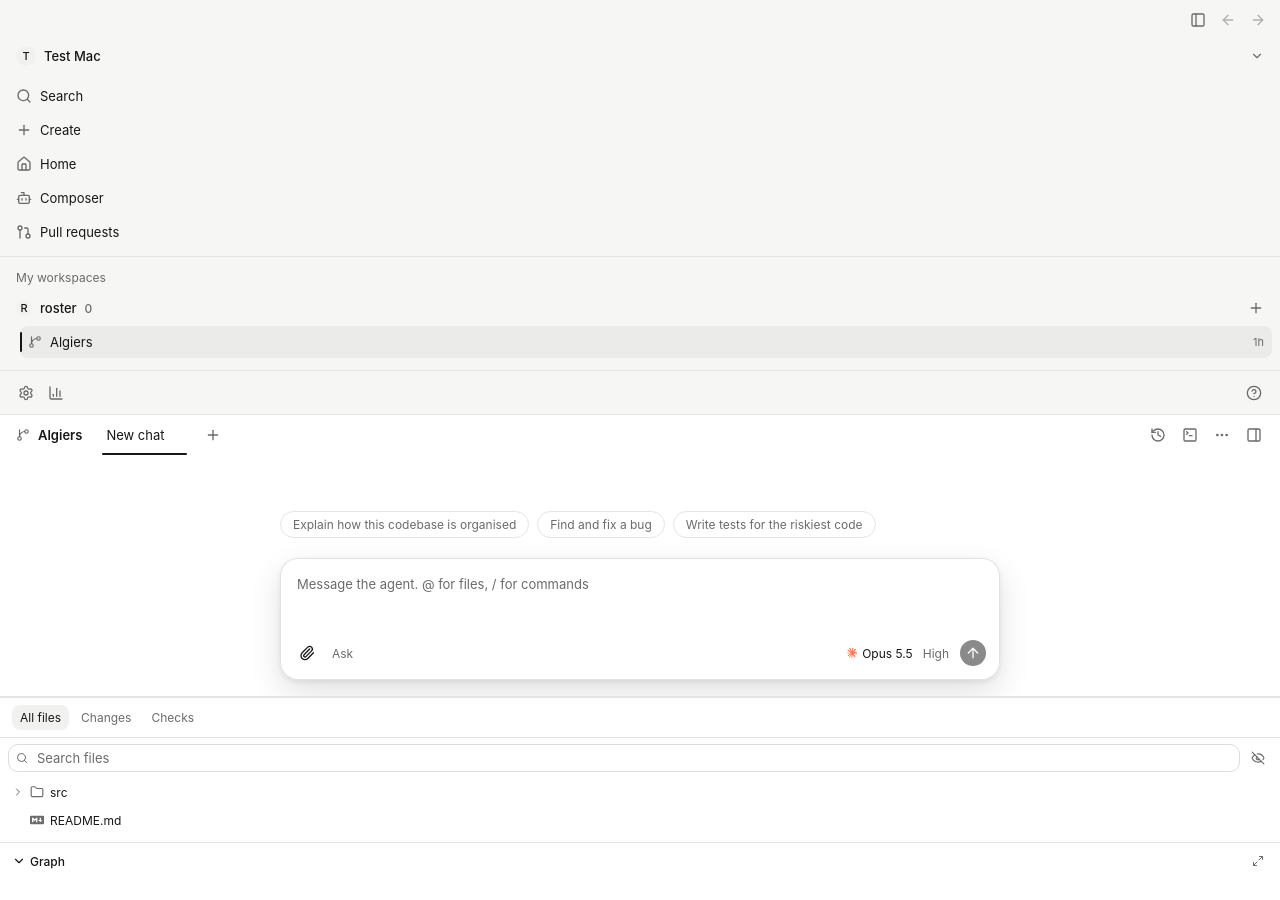
Test: all files › lists folders before files and hides ignored ones until asked
Check: the button "src" is shown, box left=4, top=778, right=1276, bottom=806
Check: the button "dist" is not shown
Click the button named "Show ignored files" at (1258, 758), box left=1244, top=744, right=1272, bottom=772
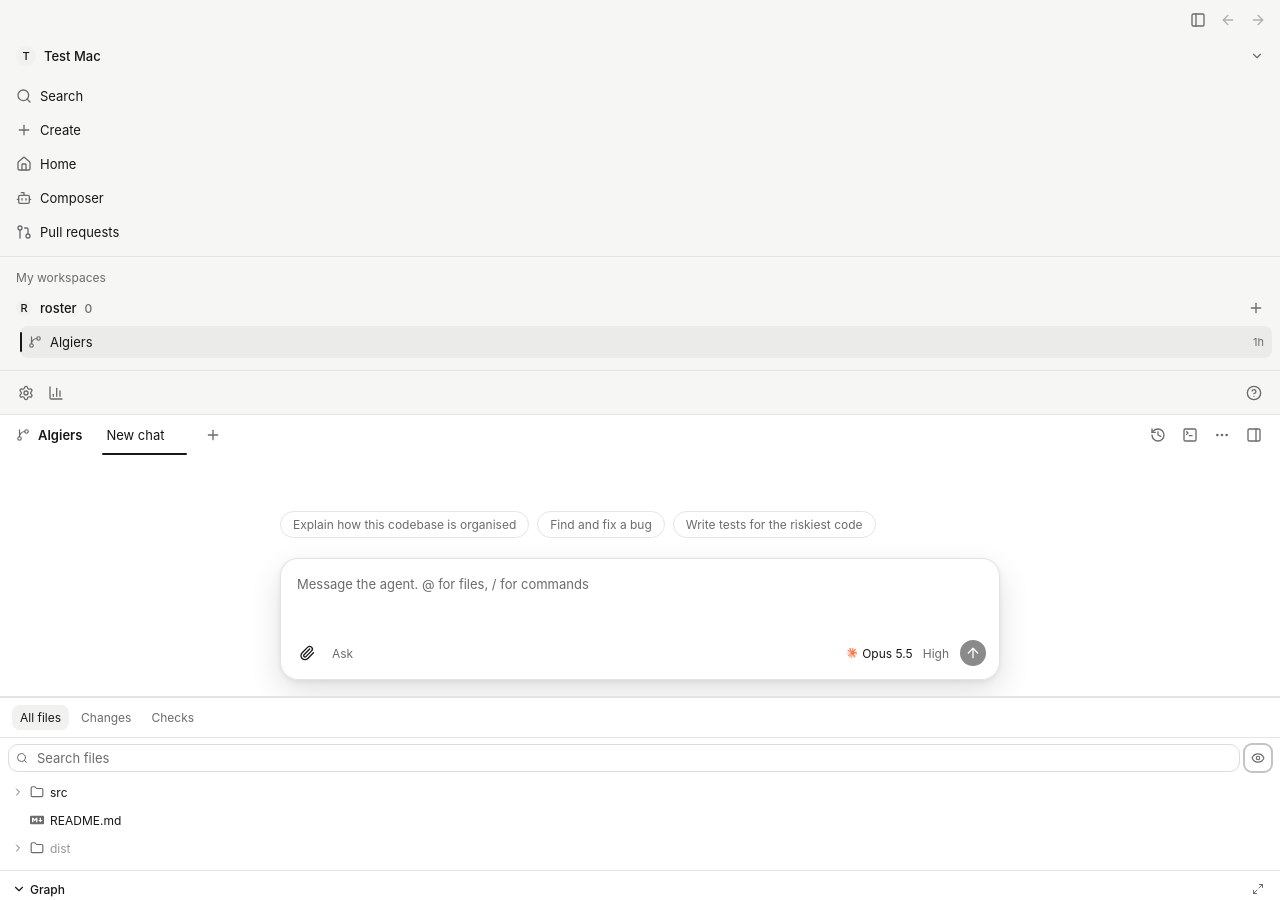
Check: the button "dist" is shown, box left=4, top=834, right=1276, bottom=862
